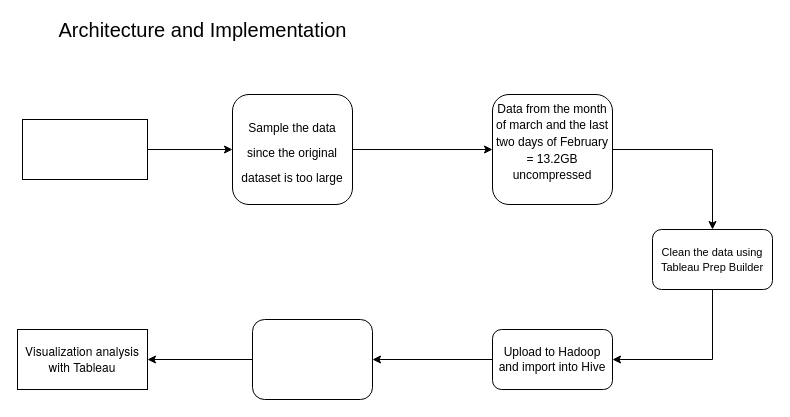
Some shapes in this 790 by 417 pixel diagram are drawn without their labels. The centre of each missing label's shape, as x and y in pixels:
Conduct basic data analysis using SQL queries, sentiment analysis, and Tableau: the point at 312,359
Download Data: the point at 85,149
